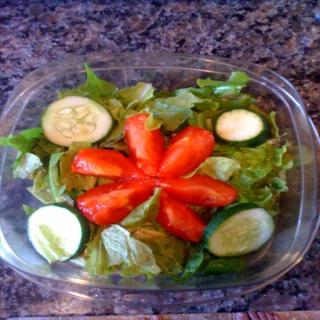tomato: (76, 177, 149, 223), (155, 172, 235, 209), (122, 112, 168, 171), (162, 123, 218, 171), (68, 146, 142, 182), (154, 193, 206, 242)
